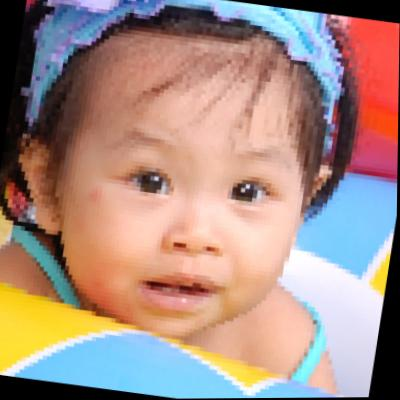surprise: (36, 20, 322, 338)
